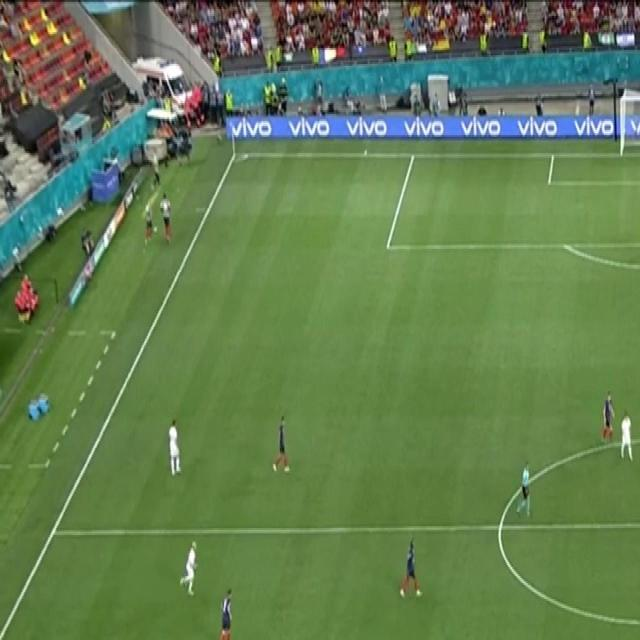ball: (152, 225, 158, 234)
player-white: (398, 536, 422, 602), (270, 414, 292, 476), (179, 537, 199, 599), (515, 462, 532, 520), (167, 418, 183, 478), (600, 388, 616, 446), (217, 586, 234, 640), (619, 411, 634, 464)
